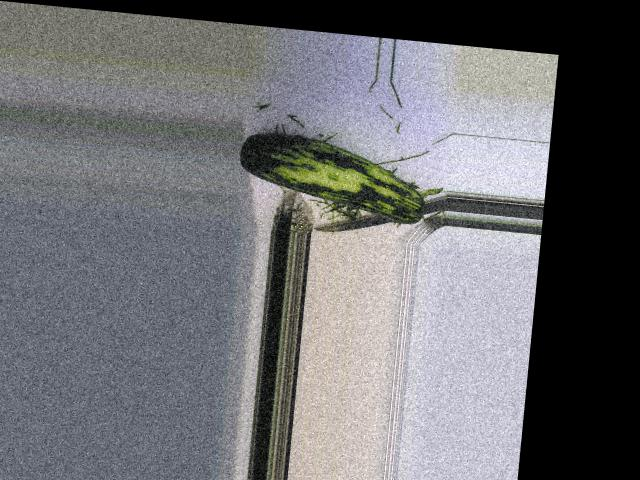cucumber: (235, 129, 431, 225)
